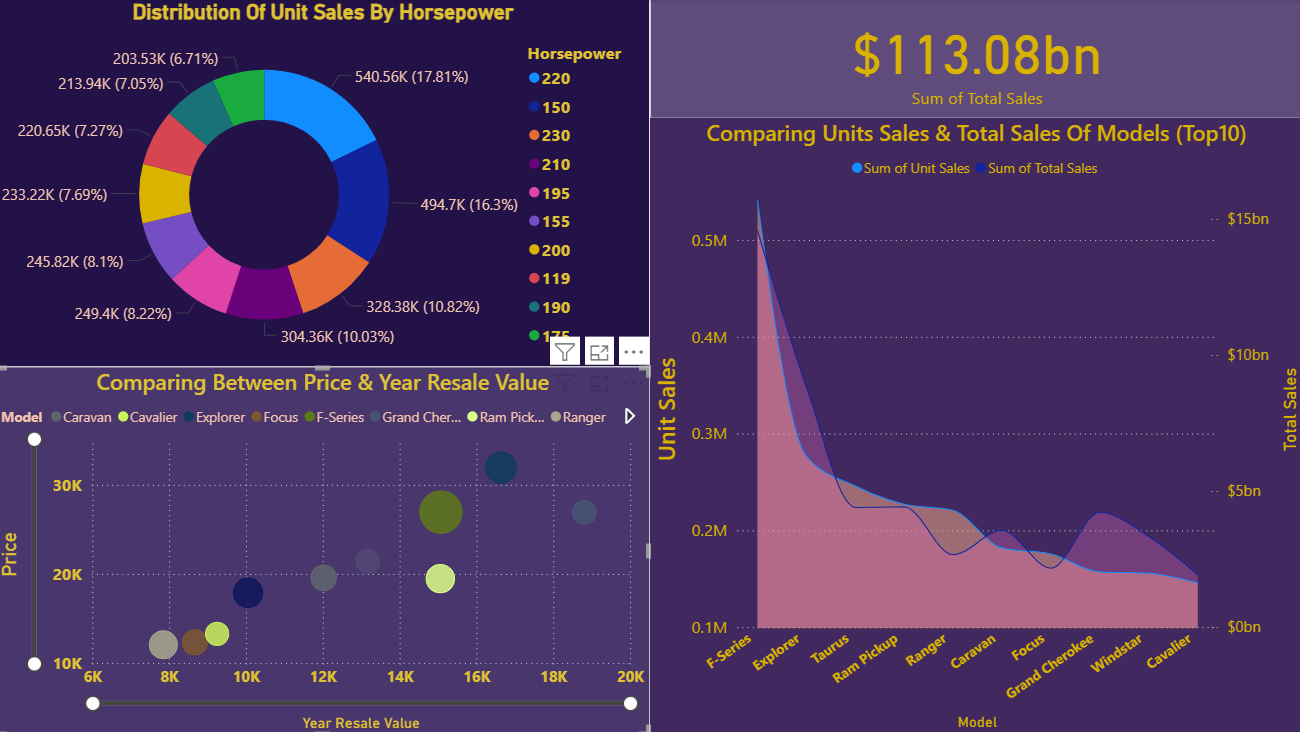

The dashboard page shown, as its layout file describes it:
{"tool":"powerbi","page":{"name":"USA","canvas":[1280,720],"ordinal":3},"visuals":[{"type":"areaChart","title":"Comparing Units Sales & Total Sales Of Models (Top10)","fields":{"Category":["Car_sales.Model"],"Y":["Sum(Car_sales.Unit Sales)"],"Y2":["Sum(Car_sales.Total Sales)"]},"box":[639.5,116.2,639.5,604.1],"z":0},{"type":"card","fields":{"Values":["Sum(Car_sales.Total Sales)"]},"box":[641.2,0,638.8,116.2],"z":1000},{"type":"scatterChart","title":"Comparing Between Price & Year Resale Value","fields":{"X":["Sum(Car_sales.Year Resale Value)"],"Y":["Sum(Car_sales.Price)"],"Category":["Car_sales.Model"],"Series":["Car_sales.Model"],"Size":["Sum(Car_sales.Unit Sales)"]},"box":[0,359.5,639.5,360.9],"z":2000},{"type":"donutChart","title":"Distribution Of Unit Sales By Horsepower","fields":{"Category":["Car_sales.Horsepower"],"Y":["Sum(Car_sales.Unit Sales)"]},"box":[0,0,640,360],"z":3000}]}

Visuals, with their boxes in screenshot pixels (x1, y1, x2, y2), scaled from the page's 1280x720 canvas onto the 1300x732 screenshot:
"Comparing Units Sales & Total Sales Of Models (Top10)" areaChart: 649/118/1299/731
card - Sum(Car_sales.Total Sales): 651/0/1299/118
"Comparing Between Price & Year Resale Value" scatterChart: 0/365/649/731
"Distribution Of Unit Sales By Horsepower" donutChart: 0/0/650/366
